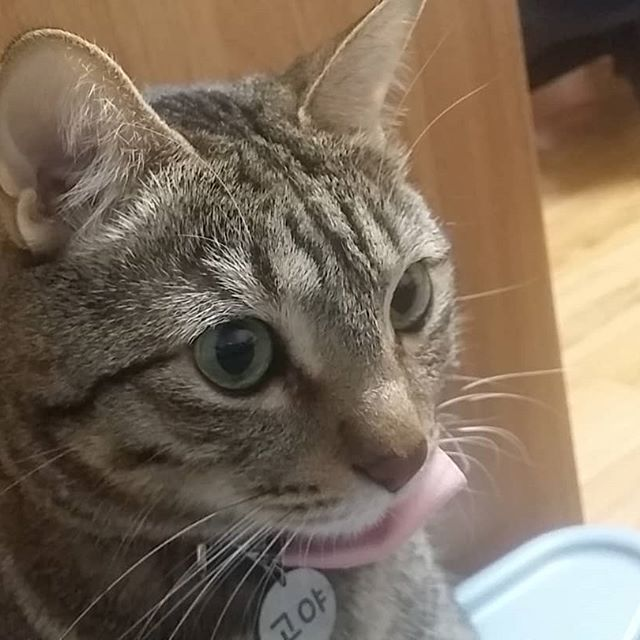cat: (1, 7, 473, 556)
